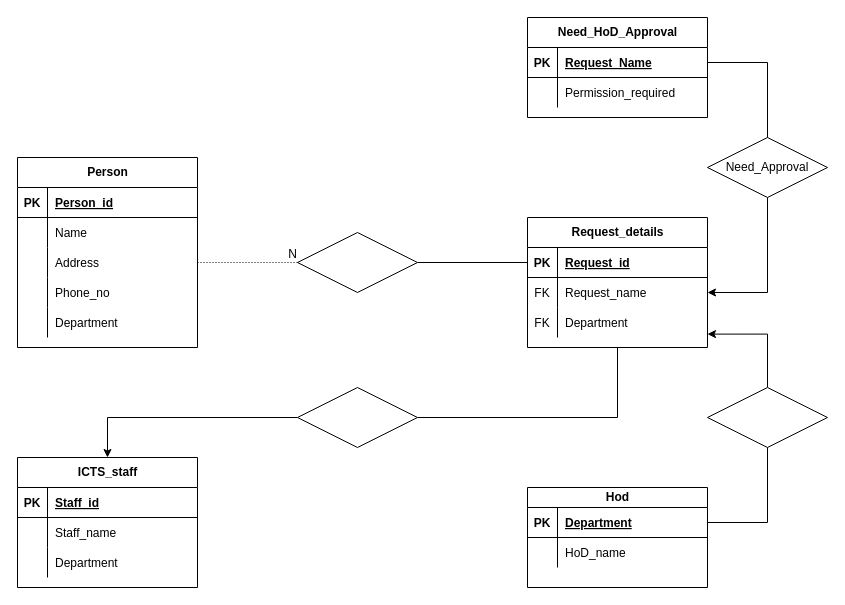
This 845x605 diagram has some shape labels left out. The shapes that lost their labels are listed below. From the top down, each one's centre as x and y in pixels, then its label:
At point (357, 262): "Request".
At point (357, 417): "Places".
At point (767, 417): "HoD_approval".
